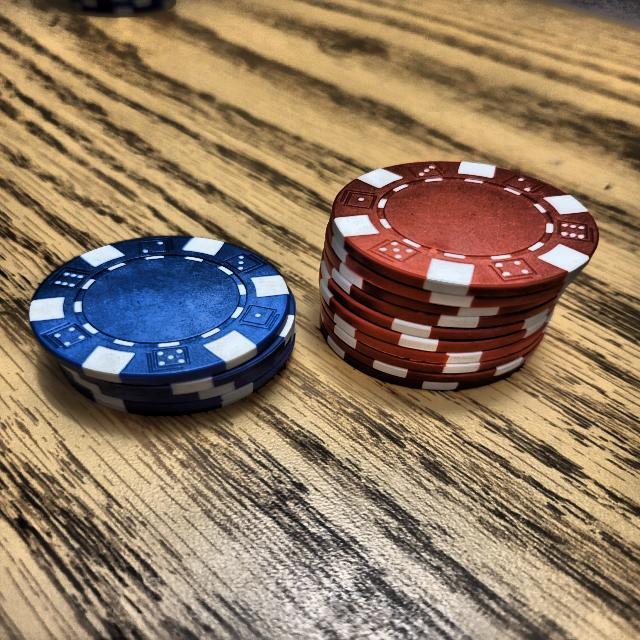Chip: (299, 152, 603, 398), (28, 222, 310, 449)
